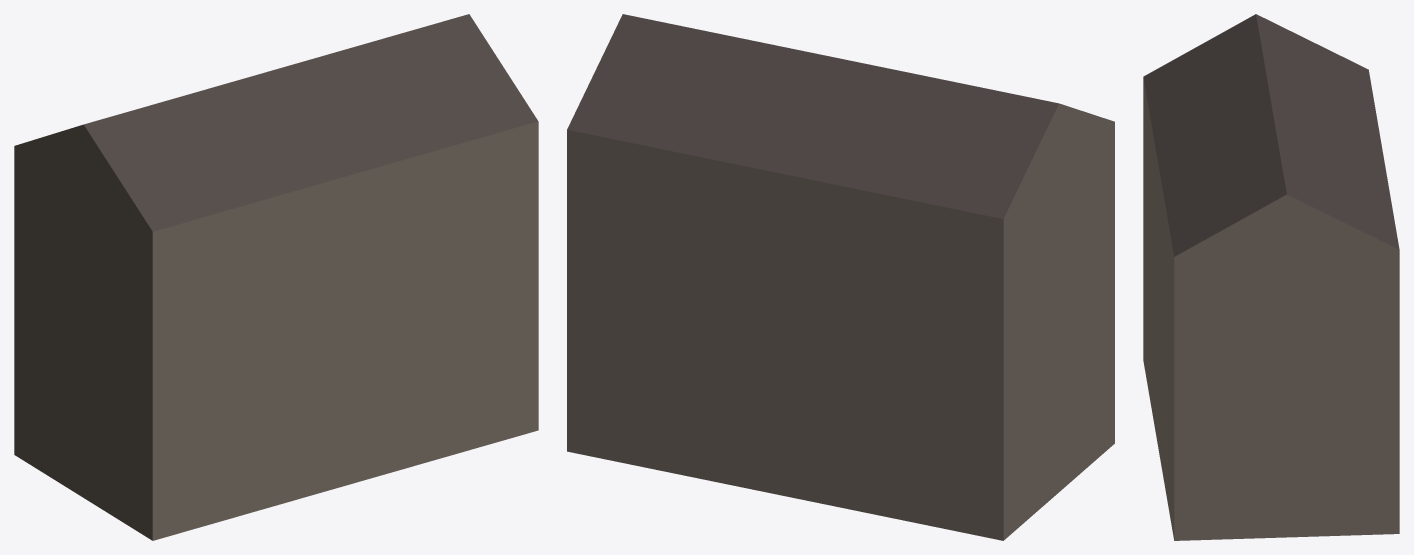
The picture shows the model from 3 angles, left to right: view 1: azimuth 30°, elevation 25°; view 2: azimuth 150°, elevation 25°; view 3: azimuth 270°, elevation 25°; orthographic projection. The views are drawn at different scales.
Parts seen in each view (by area): view 1: HP-w1424106430; view 2: HP-w1424106430; view 3: HP-w1424106430.
Part boxes in pixels (x1,y1,x2,y2): HP-w1424106430: [14, 14, 538, 540]; HP-w1424106430: [567, 14, 1114, 540]; HP-w1424106430: [1143, 14, 1399, 540].
Size of the model in its own units: 12.74 by 10.87 by 7.36.
